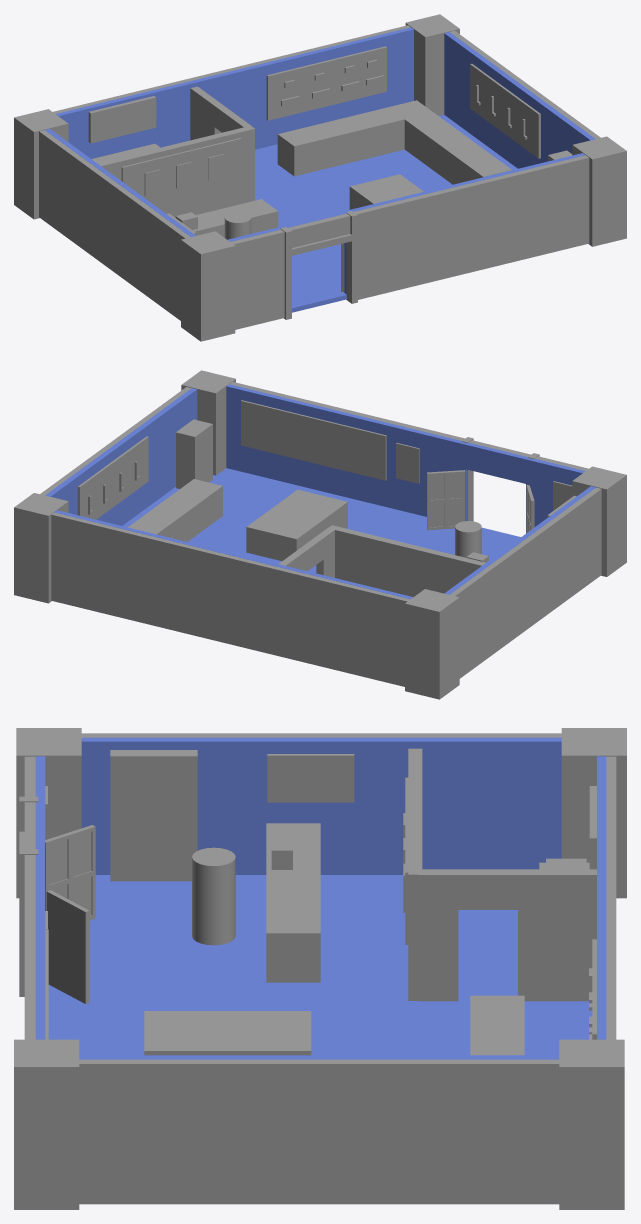
The model's file is gunstoretest.fbx.
3 views of the same model, one above another, from view 1: azimuth 30°, elevation 25°; view 2: azimuth 150°, elevation 25°; view 3: azimuth 270°, elevation 25° (orthographic). The views are drawn at different scales.
Visible parts, largest first — view 1: Pistol13; view 2: Pistol13; view 3: Pistol13.
Boxes of the visible parts, bbox=[...] form: Pistol13: bbox=[14, 14, 626, 341]; Pistol13: bbox=[14, 370, 626, 699]; Pistol13: bbox=[14, 728, 626, 1209].
Bounding box in the file's own units: 73.44 × 14.43 × 56.11.
